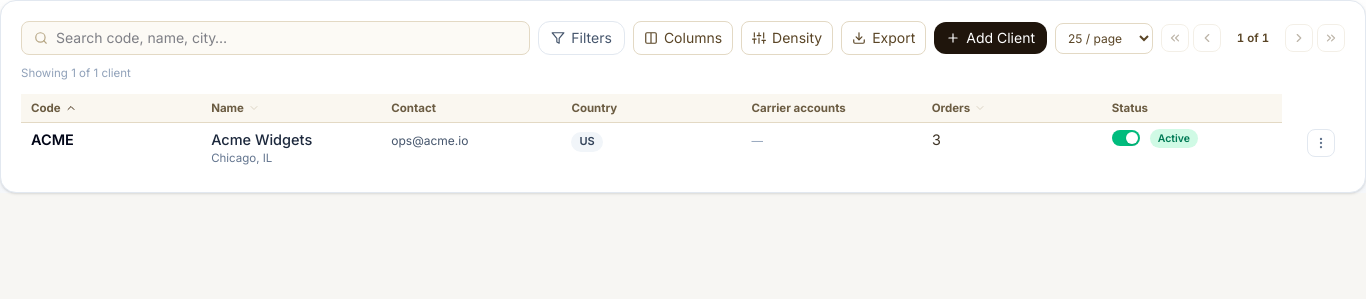
Scenario: ClientsPage · role gating › per-row kebab: ADMIN sees Delete; USER does not
Expected: the text "ACME" is shown, [31,129,74,150]
Click the button named "Row actions" at coordinates (1321, 143), box [1307,129,1335,157]
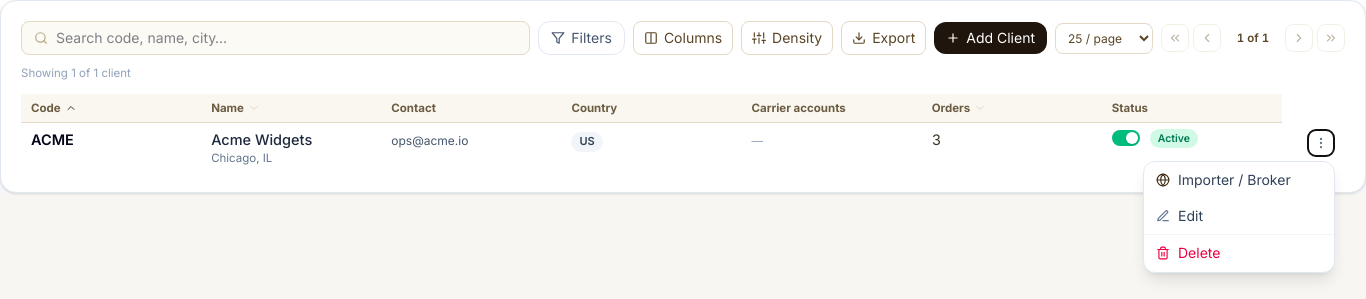
Expected: the menu item "Delete" is shown, [1144,234,1334,272]
Expected: the menu item "Edit" is shown, [1144,198,1334,234]
Expected: the menu item "Importer / Broker" is shown, [1144,162,1334,198]
